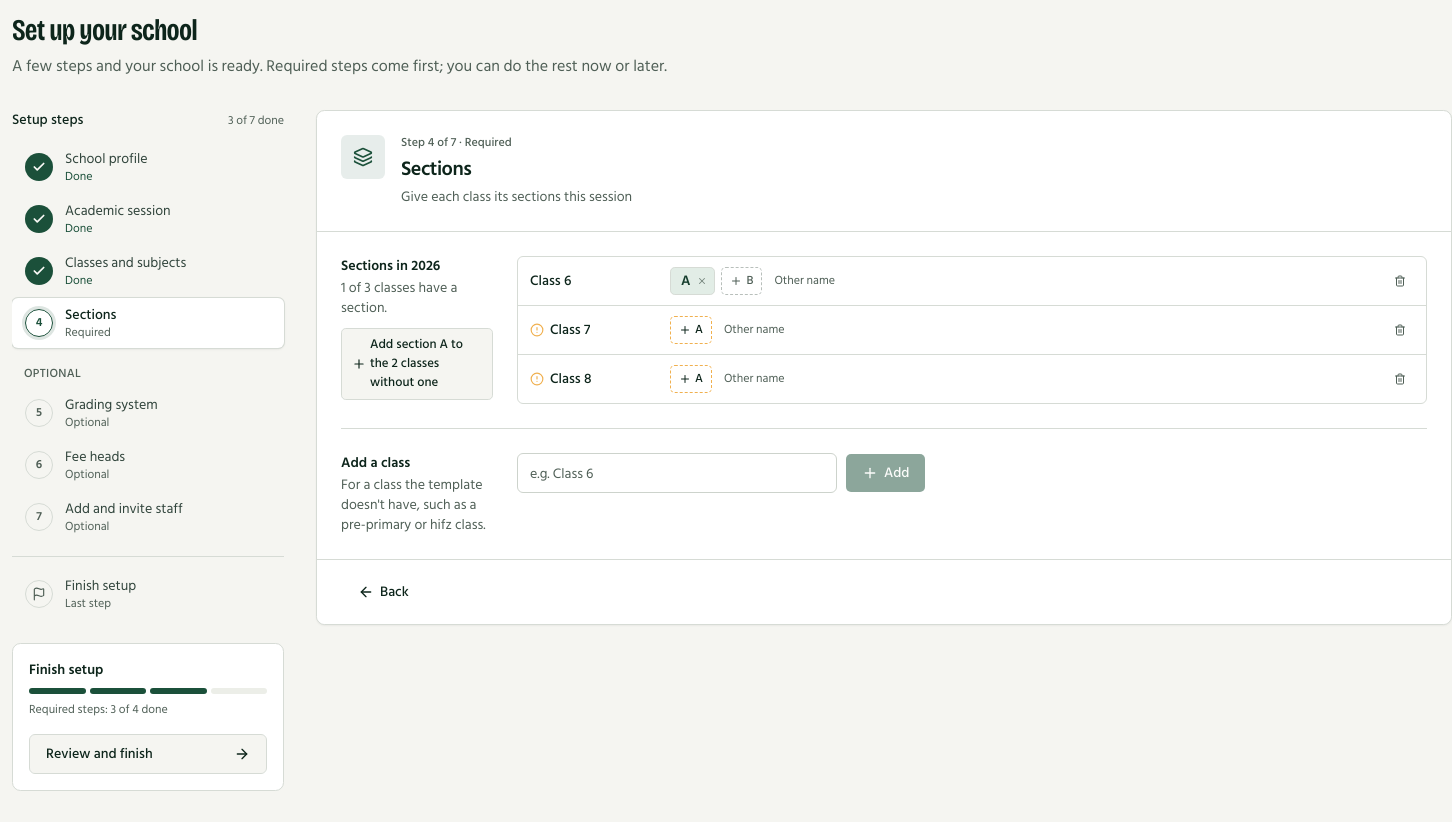
Scenario: OnboardingWizard › gives every class without a section its section A in one go
Expected: the text "1 of 3 classes have a section." is shown, [341, 276, 457, 319]
Click the button "Add section A to the 2 classes without one" at (417, 364), box [341, 328, 493, 400]
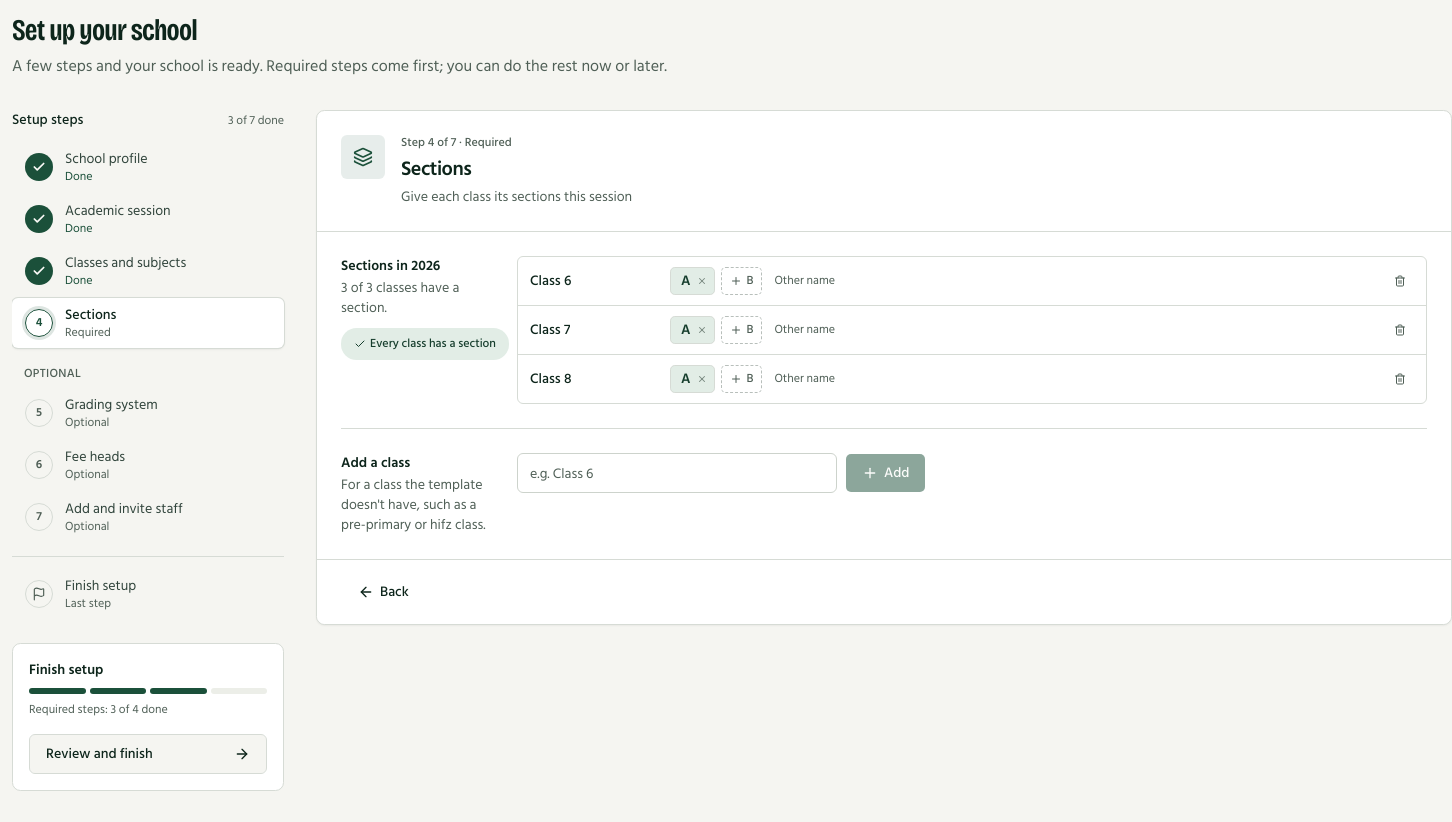
Now the text "Every class has a section" is shown, box [341, 328, 509, 360]
